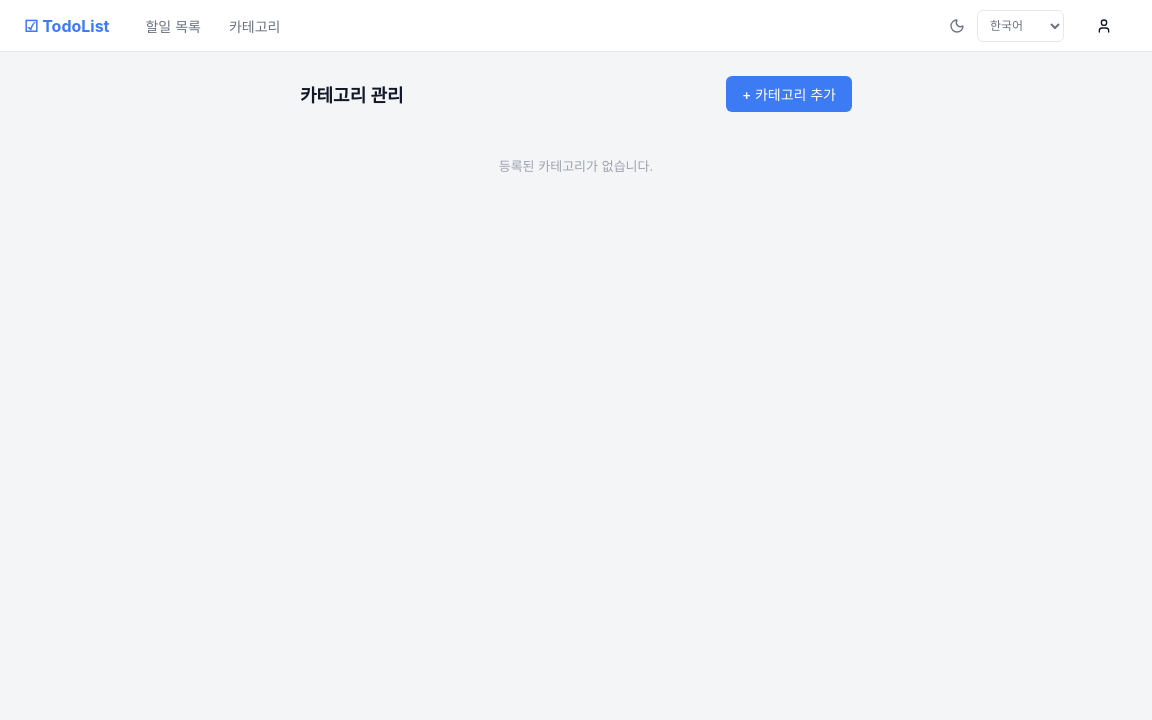
+ 카테고리 추가 버튼 클릭 시 추가 Modal 표시
The image size is (1152, 720).
Click the button "+ 카테고리 추가". click: {"x": 789, "y": 94}
box: [726, 76, 852, 112]
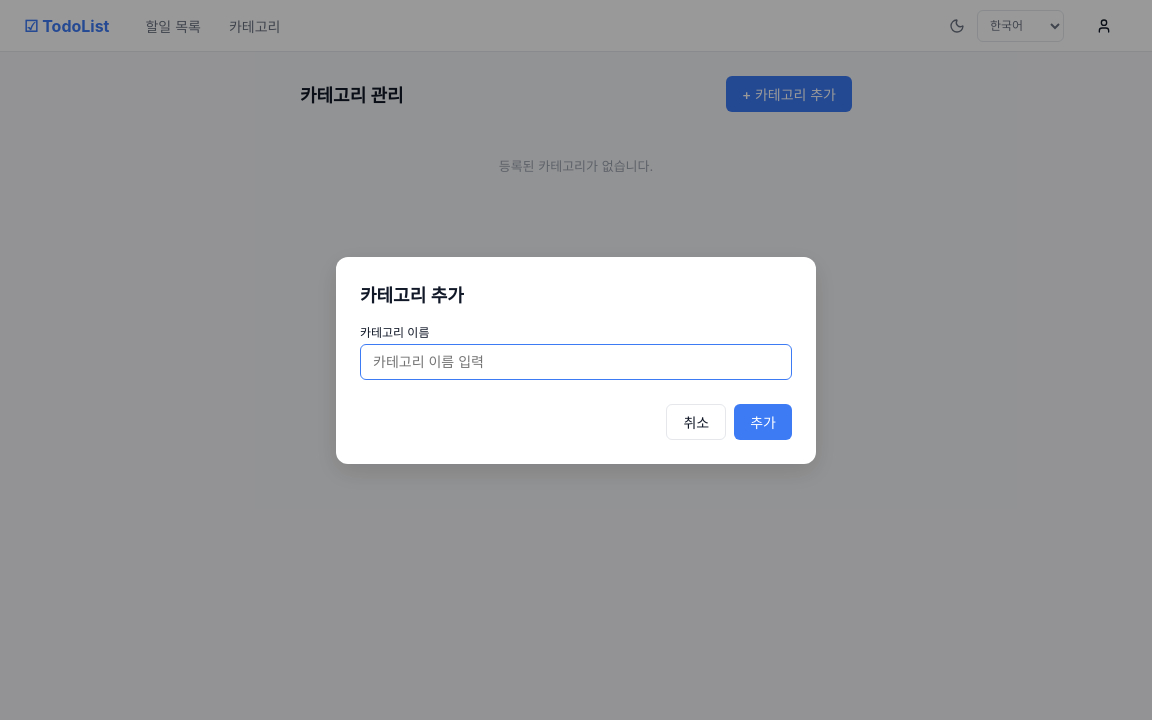
Expected: the heading "카테고리 추가" is shown, [360, 284, 464, 306]
